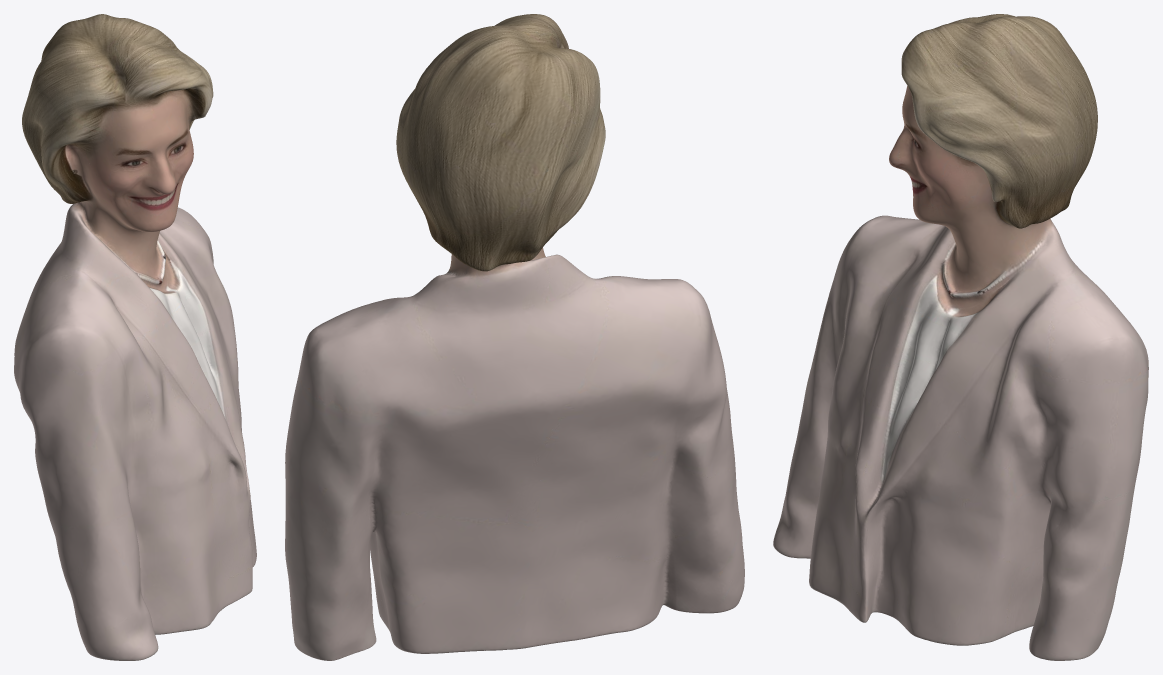
The picture shows the model from 3 angles, left to right: view 1: azimuth 30°, elevation 25°; view 2: azimuth 150°, elevation 25°; view 3: azimuth 270°, elevation 25°; orthographic projection. The views are drawn at different scales.
Size of the model in its own units: 1.05 by 1.9 by 1.14.
1 material, 1 textured.
